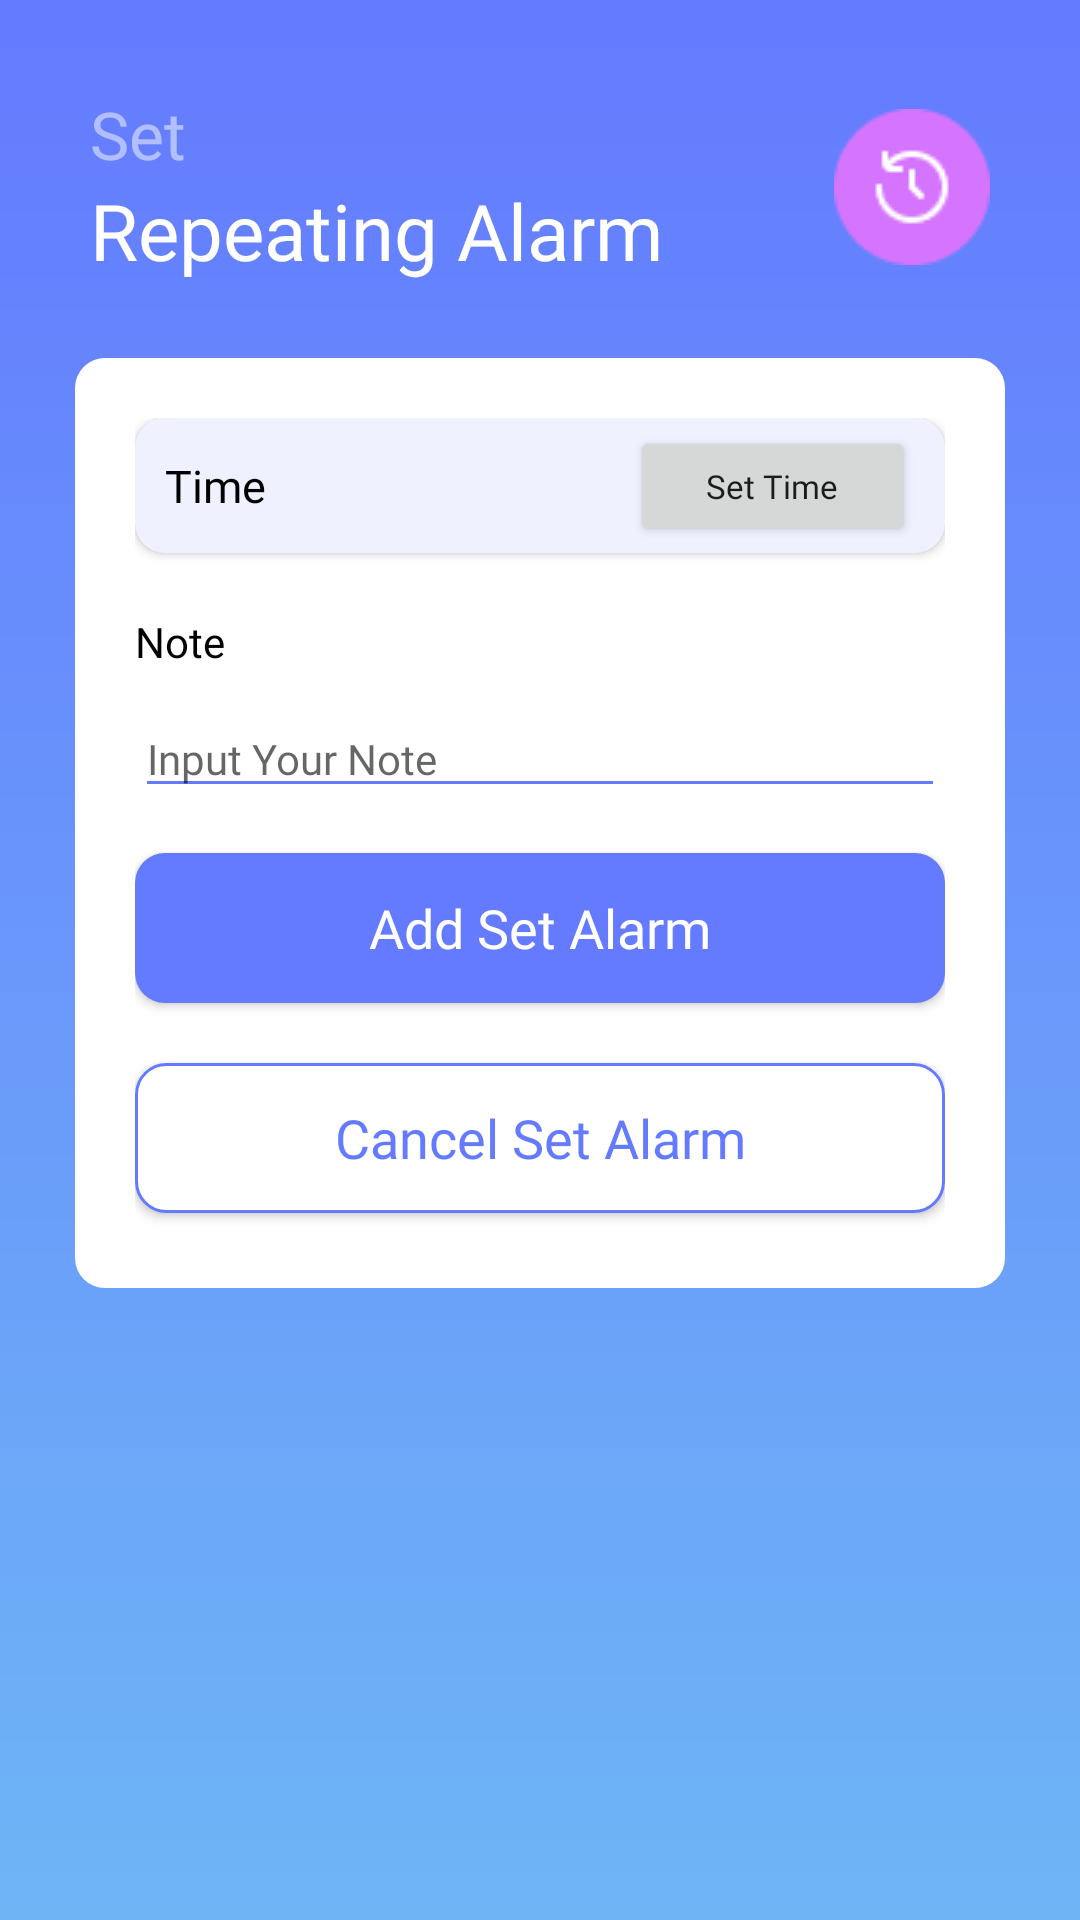

Screen size 1080 × 1920. Icon name, then its center in pixels as (x=x, y=y):
repeating: (x=912, y=187)
